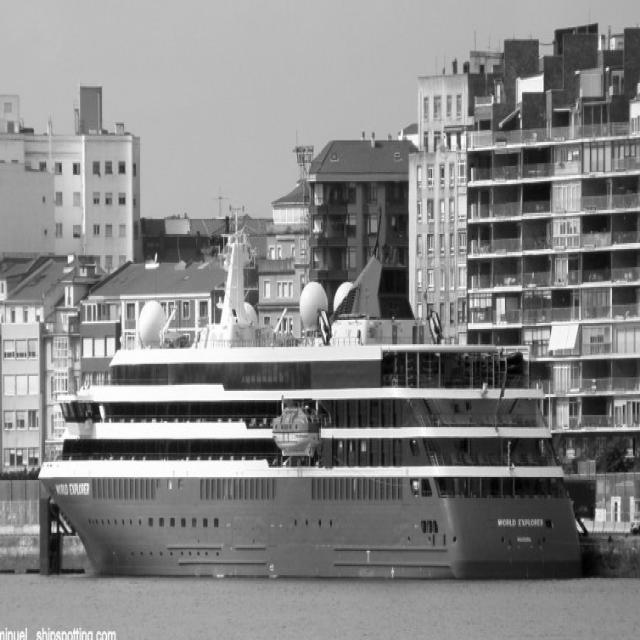cruises: (37, 231, 587, 587)
